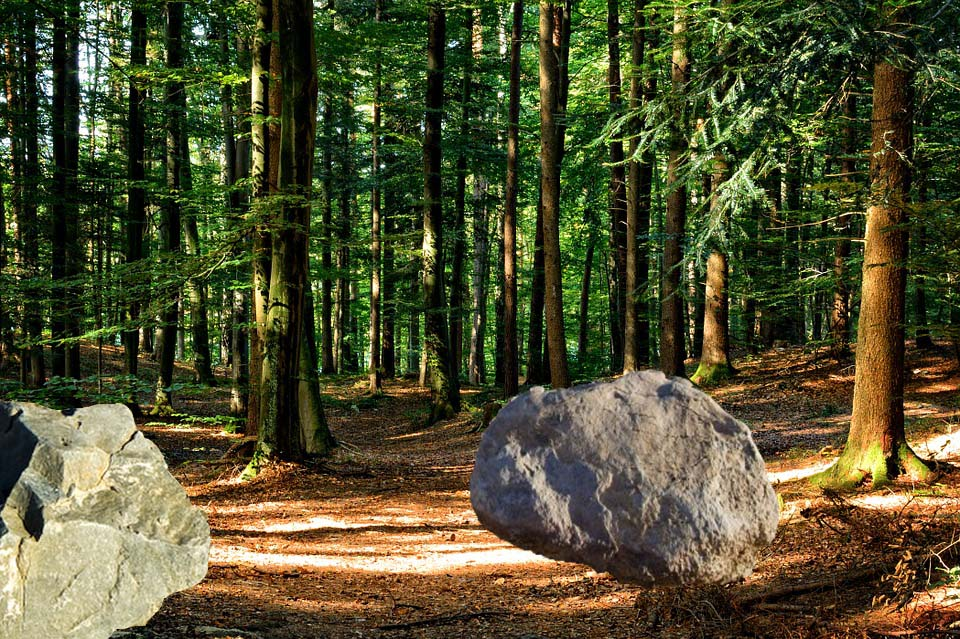Rocks: (469, 369, 784, 585), (1, 400, 209, 639)
